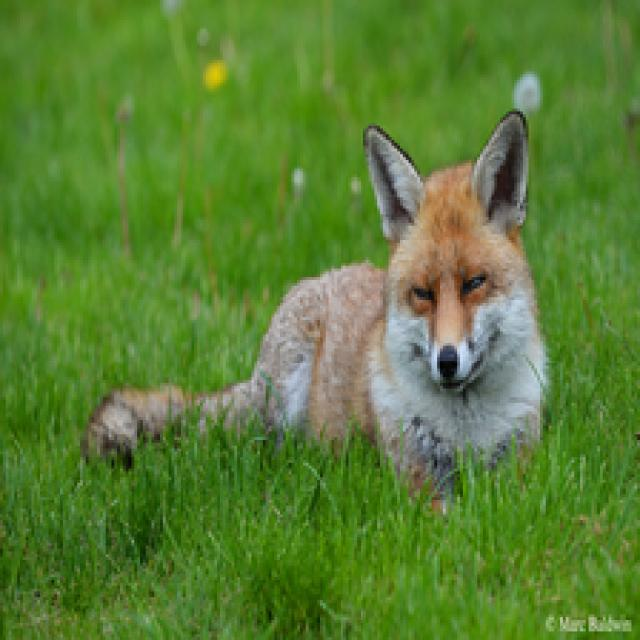fox: (60, 103, 567, 520)
